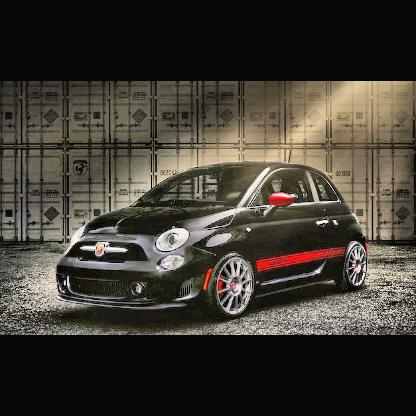FIAT 500 Abarth 2012: (57, 161, 372, 324)
